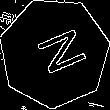N_SW: (24, 24, 85, 81)
